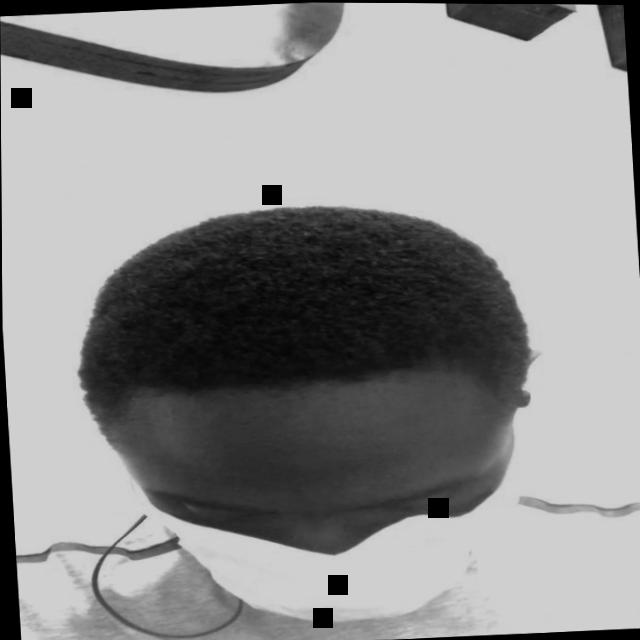Mask: (99, 392, 528, 635)
